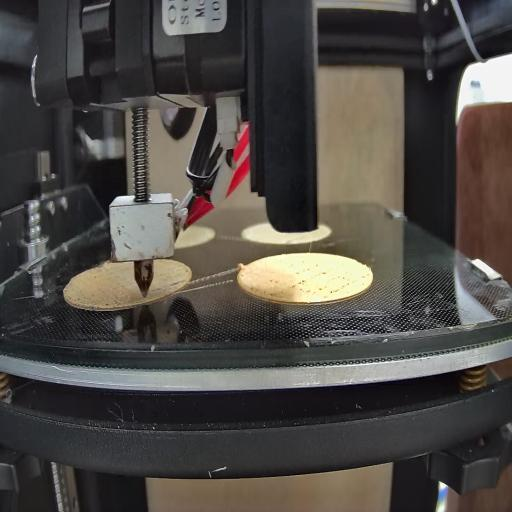under_extrusion: (292, 267, 372, 298), (62, 284, 117, 313), (246, 274, 283, 303), (152, 273, 192, 296)
